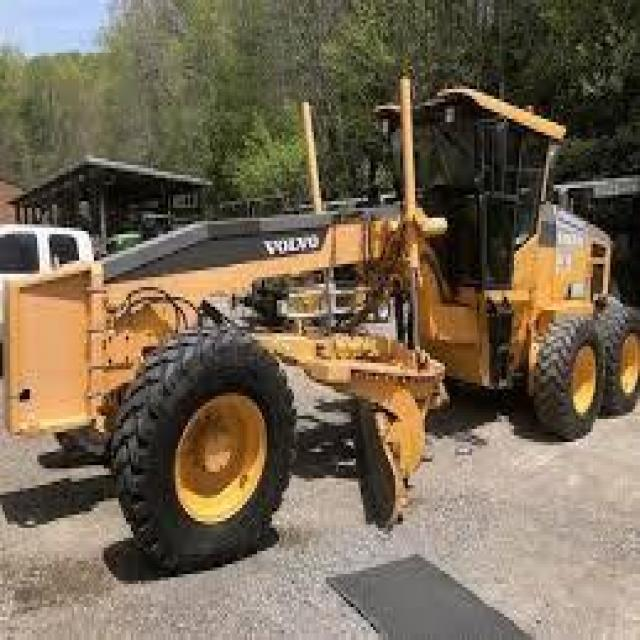Grader: (2, 66, 638, 574)
